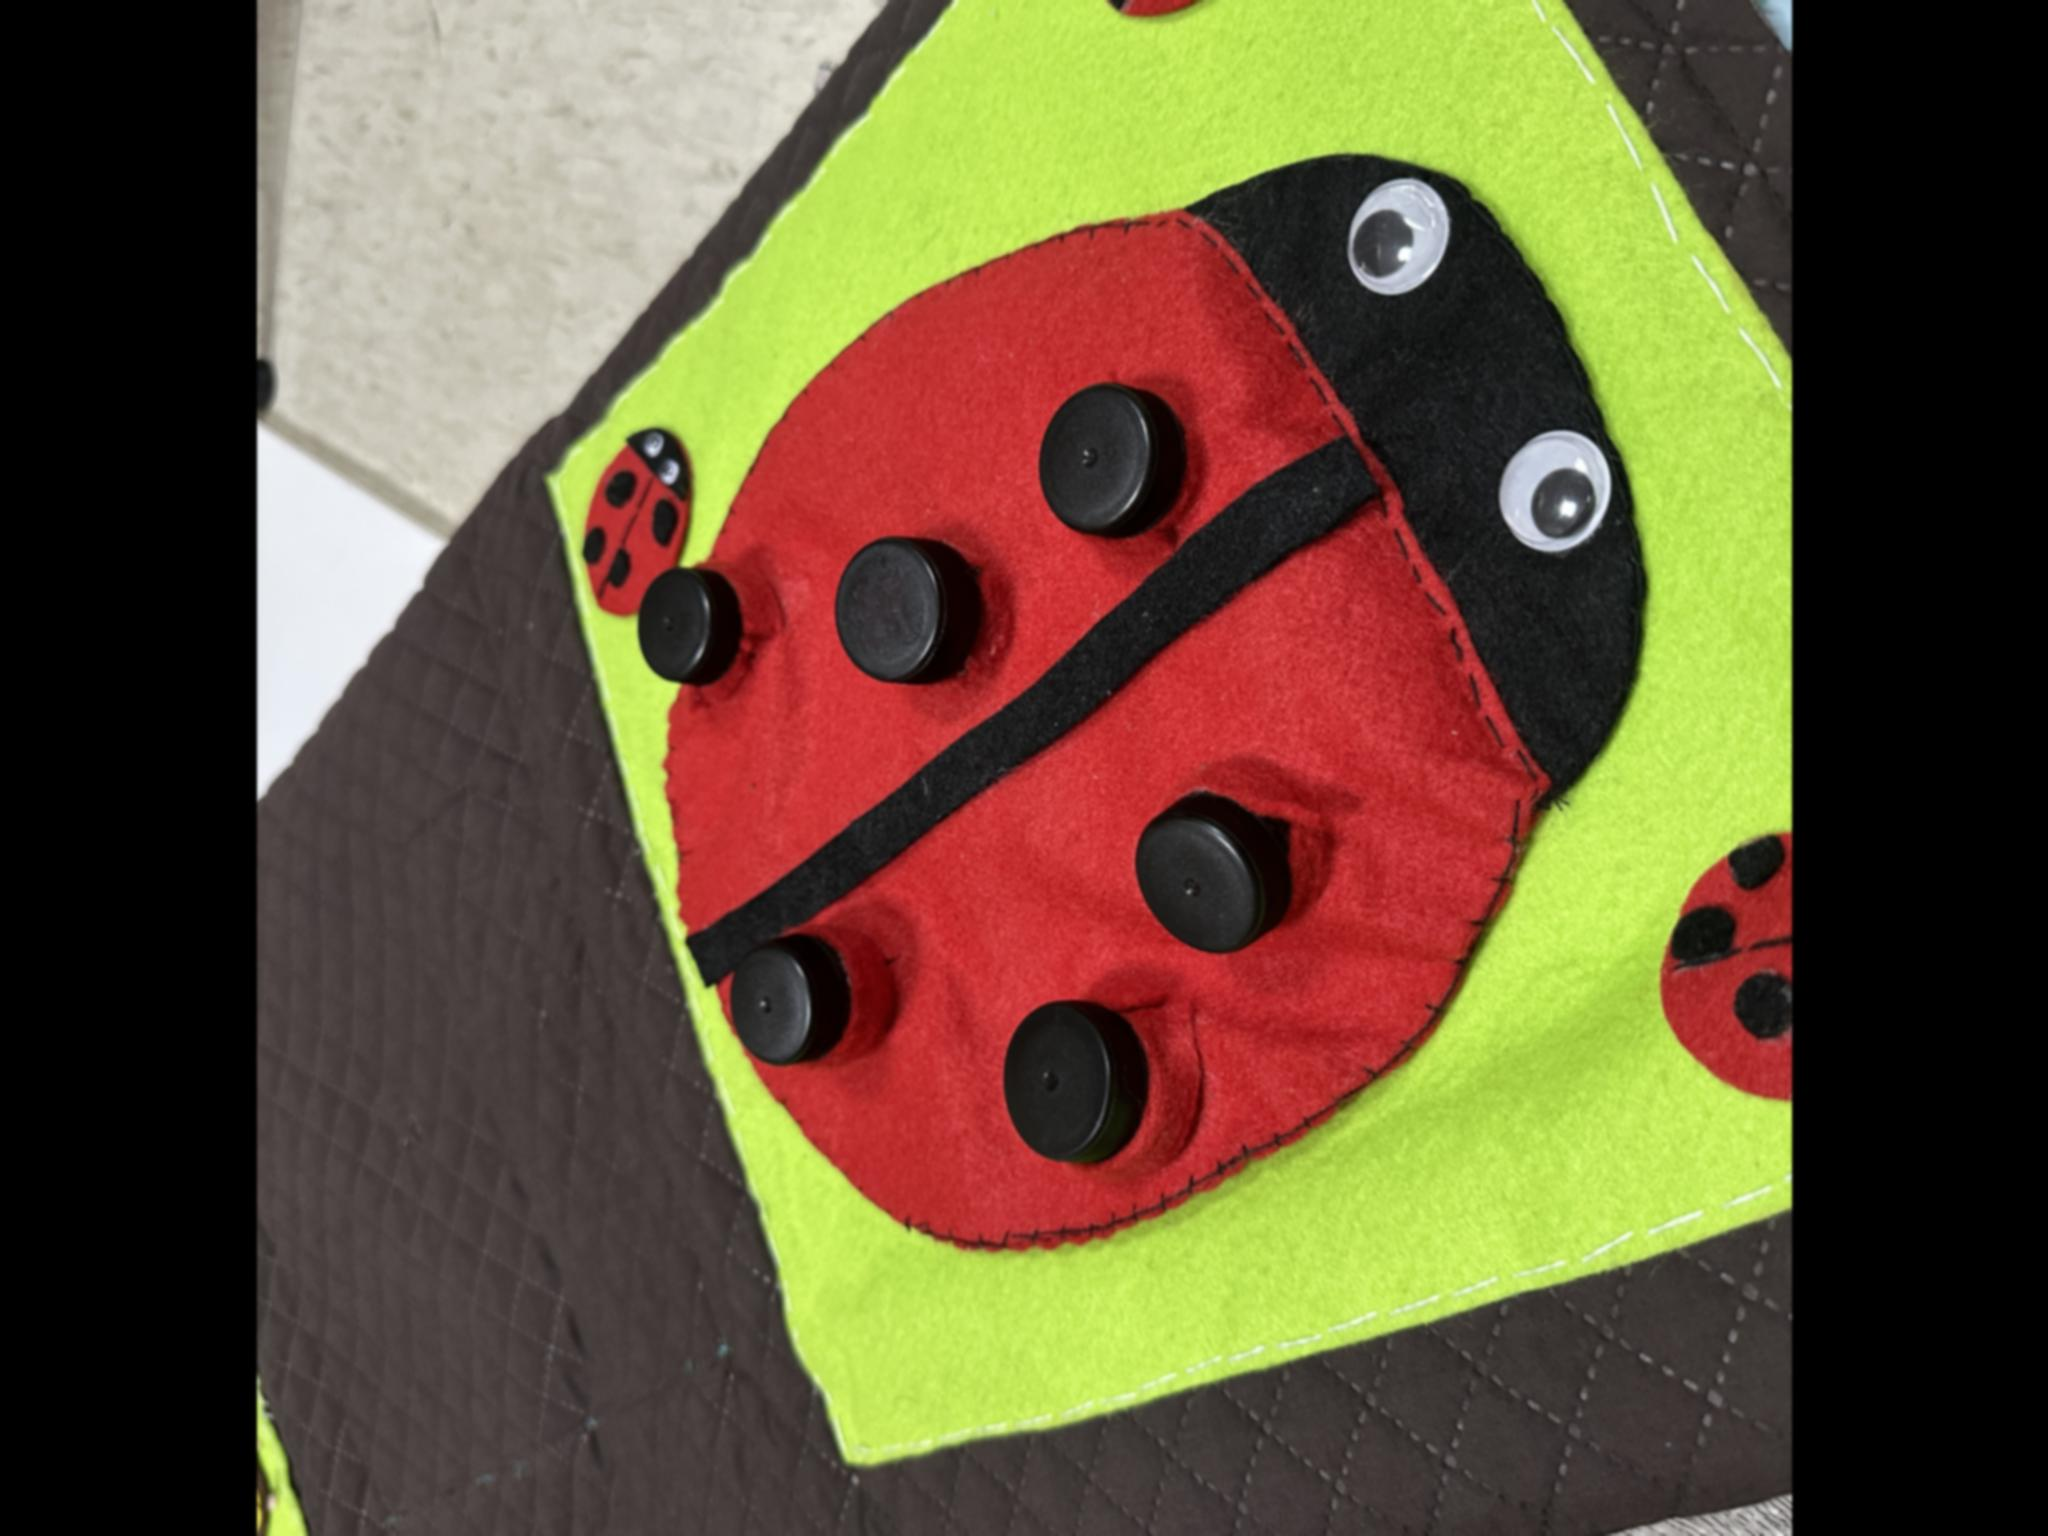cap_ok: (822, 524, 1039, 742), (1030, 373, 1227, 605), (1114, 771, 1348, 955), (992, 997, 1201, 1196), (726, 902, 910, 1108), (626, 542, 789, 739)
